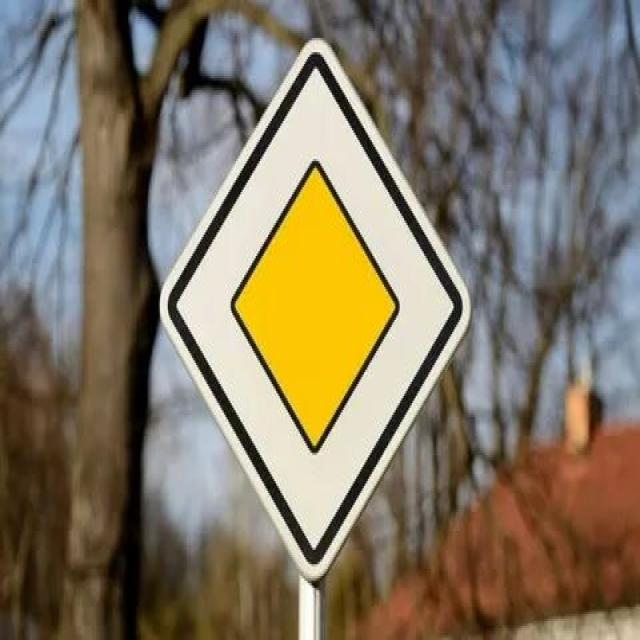signs: (158, 32, 474, 584)
